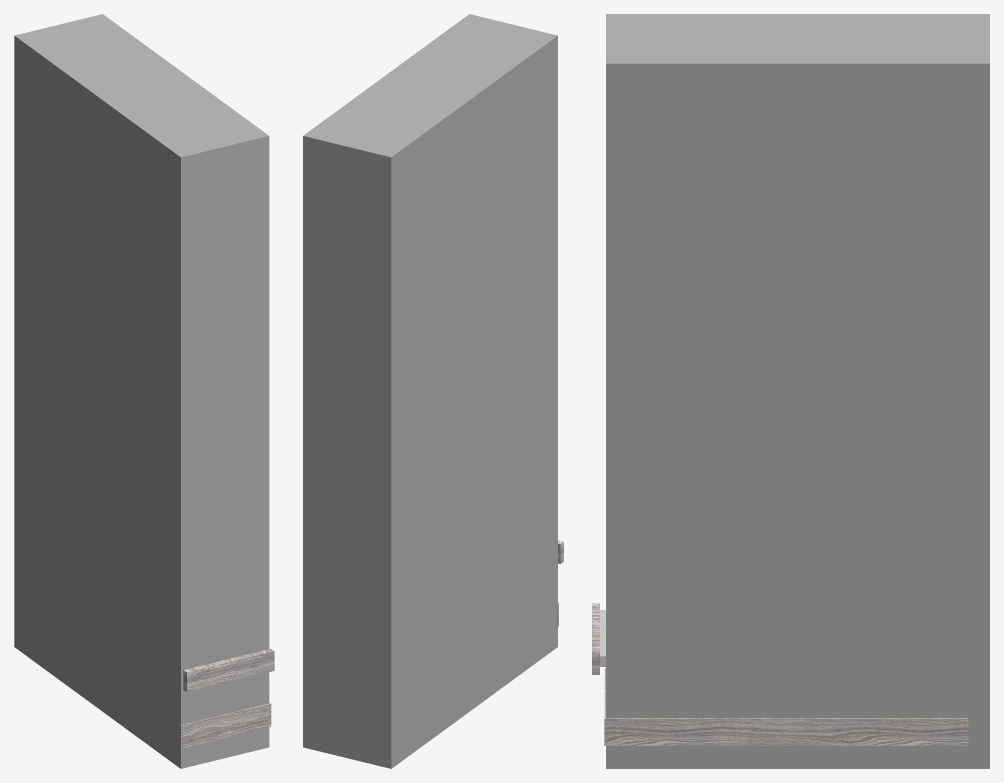
Rendered from Interior_Facde_Wall_Parts2.obj.
3 views of the same model, side by side, from view 1: azimuth 30°, elevation 25°; view 2: azimuth 150°, elevation 25°; view 3: azimuth 270°, elevation 25° (orthographic). The views are drawn at different scales.
Parts seen in each view (by area): view 1: Part5, Part3, Part2; view 2: Part5; view 3: Part5, Part4.
Part boxes in pixels (x1,y1,x2,y2): Part5: (14,14,269,768); Part3: (179,704,268,748); Part2: (183,649,274,691); Part5: (303,14,557,768); Part5: (606,14,989,768); Part4: (604,718,968,745).
Bounding box in the file's own units: 3.77 × 24.43 × 12.49.
3 materials, 2 textured.
